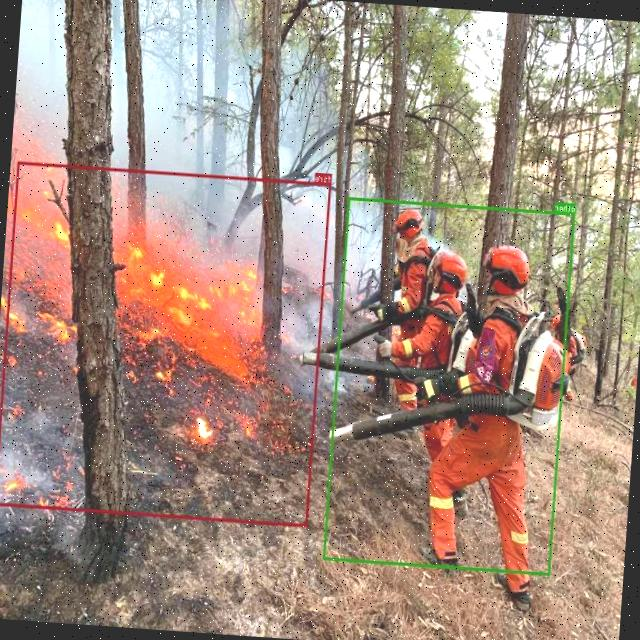fire: (0, 161, 331, 526)
